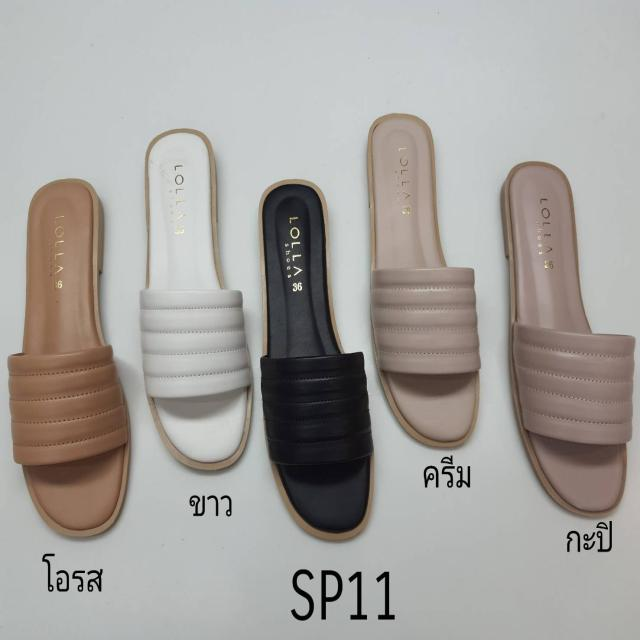black: (253, 179, 375, 537)
cream: (375, 116, 476, 437)
kapi: (505, 169, 629, 517)
orot: (16, 178, 129, 533)
white: (148, 126, 252, 462)
